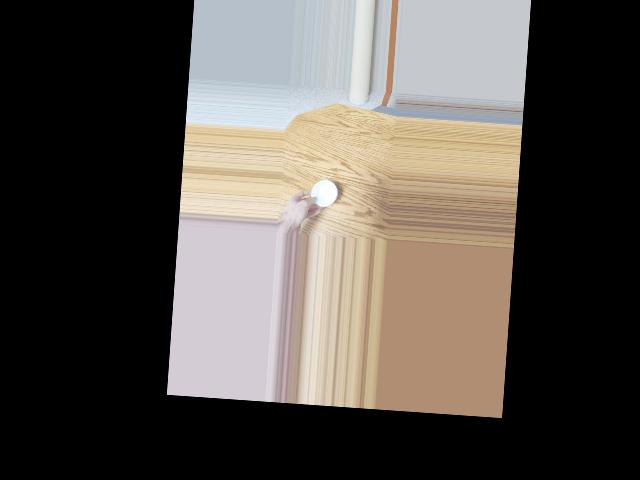cotage: (309, 179, 338, 209)
